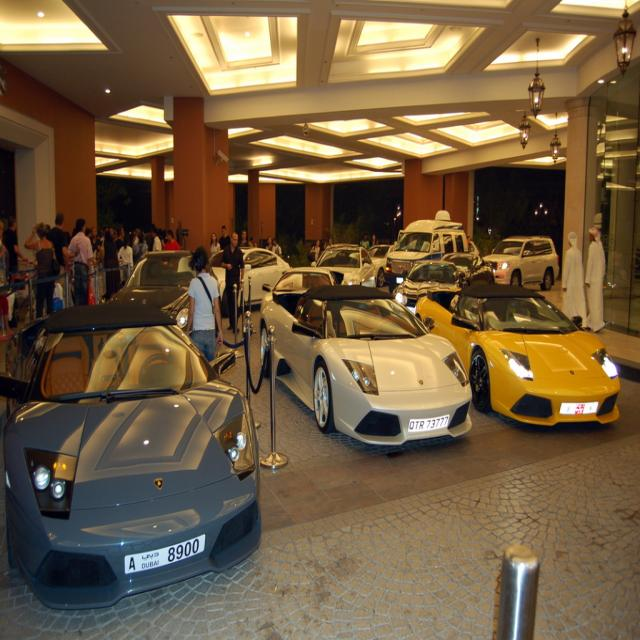car: (0, 212, 623, 608), (290, 285, 476, 462)
